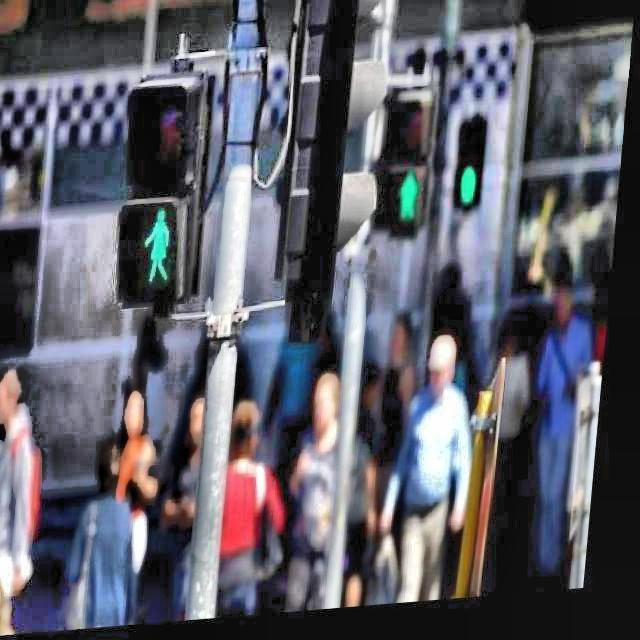semaforo pedestre: (59, 53, 242, 344), (351, 68, 446, 278), (438, 109, 512, 242)
